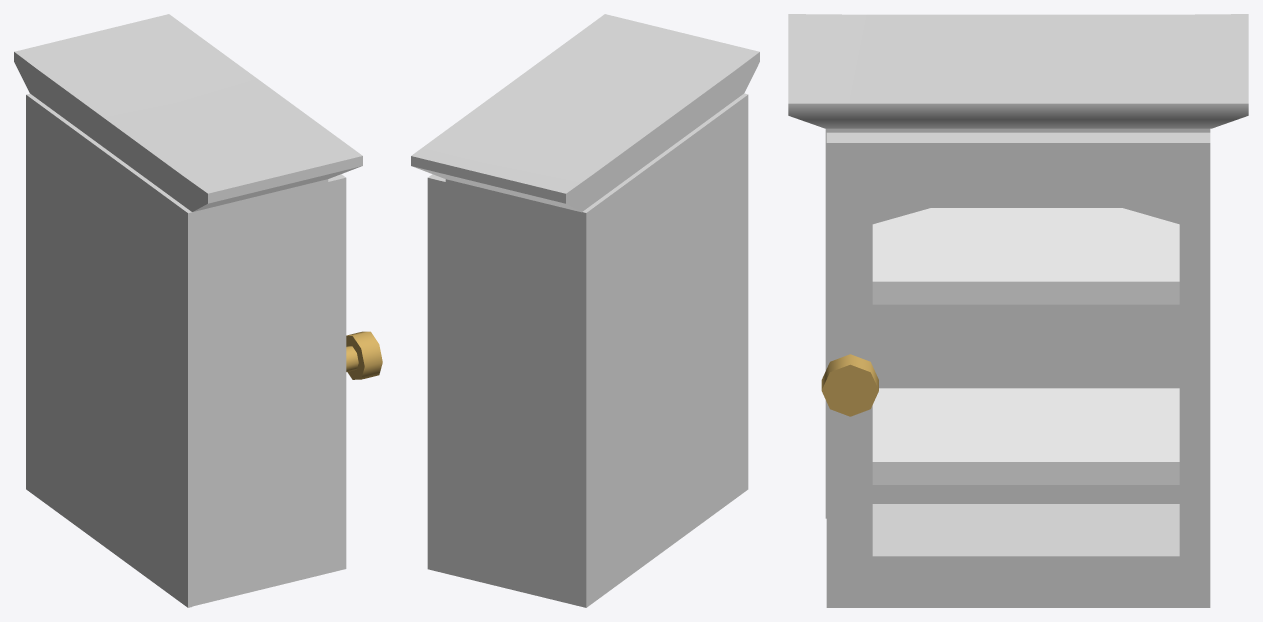
The model's file is BathroomCabinet.fbx.
3 views of the same model, side by side, from view 1: azimuth 30°, elevation 25°; view 2: azimuth 150°, elevation 25°; view 3: azimuth 270°, elevation 25° (orthographic). The views are drawn at different scales.
Visible parts, largest first — view 1: polySurface1; view 2: polySurface1; view 3: polySurface1.
Part boxes in pixels (bbox=[...]): polySurface1: bbox=[14, 14, 382, 607]; polySurface1: bbox=[411, 14, 759, 607]; polySurface1: bbox=[788, 14, 1248, 607].
Bounding box in the file's own units: 4.08 × 8.57 × 7.09.
